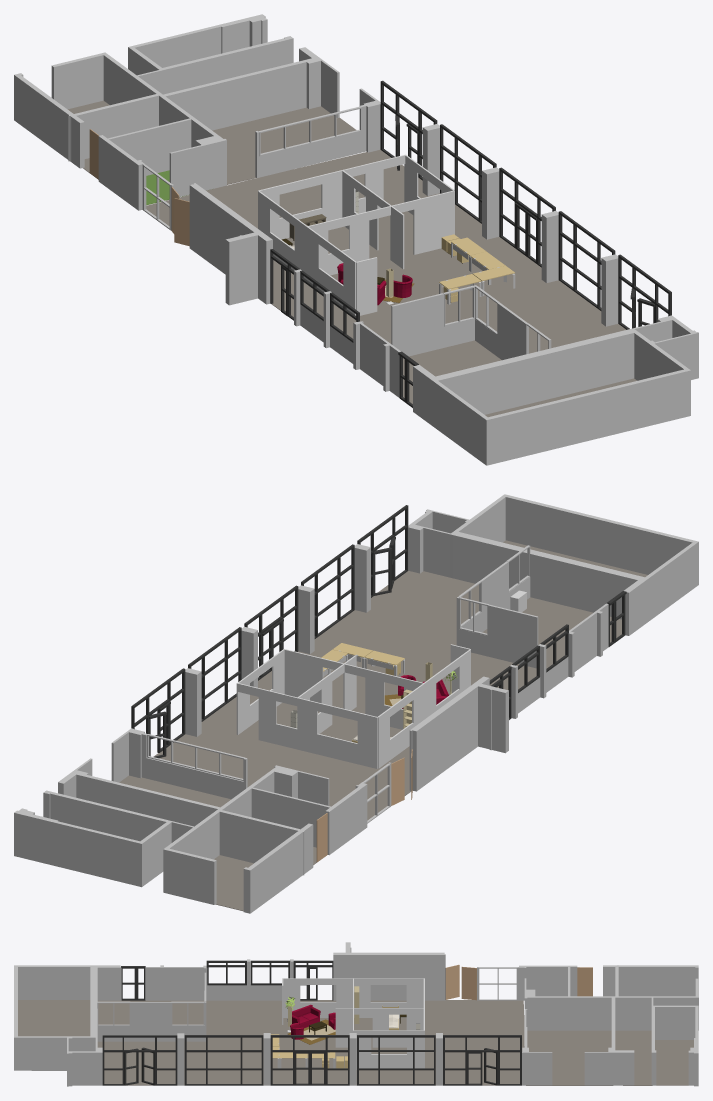
File: laas_adream.dae
3 views of the same model, one above another, from view 1: azimuth 30°, elevation 25°; view 2: azimuth 150°, elevation 25°; view 3: azimuth 270°, elevation 25° (orthographic). The views are drawn at different scales.
Visible parts, largest first — view 1: walls_002, walls_010, Floor_h020, glass_wall_h20_1, walls_004, Floor_h022, walls_011, walls_001, walls_000, Floor_h021, walls_005, walls_007 (+12 smaller); view 2: walls_002, walls_010, Floor_h020, walls_004, glass_wall_h20_1, walls_001, walls_011, walls_000, Floor_h021, walls_005, Floor_h002, Floor_h022 (+14 smaller); view 3: Floor_h020, walls_002, walls_010, glass_wall_h20_1, walls_004, walls_011, Floor_h022, Floor_h006, walls_005, Floor_h021, Floor_h003, Floor_h004 (+34 smaller).
Boxes of the visible parts, box(x1,y1,x2,y2) form: walls_002: box(14, 14, 339, 210); walls_010: box(413, 315, 698, 465); Floor_h020: box(146, 149, 626, 353); glass_wall_h20_1: box(380, 80, 671, 329); walls_004: box(189, 183, 272, 305); Floor_h022: box(212, 106, 356, 184); walls_011: box(294, 269, 400, 397); walls_001: box(255, 88, 380, 177); walls_000: box(391, 285, 476, 356); Floor_h021: box(403, 340, 501, 403); walls_005: box(475, 303, 527, 360); walls_007: box(482, 167, 499, 239); walls_002: box(14, 758, 367, 913); walls_010: box(408, 494, 698, 635); Floor_h020: box(153, 571, 536, 820); walls_004: box(409, 676, 508, 791); glass_wall_h20_1: box(131, 505, 408, 745); walls_001: box(111, 728, 247, 799); walls_011: box(510, 603, 608, 718); walls_000: box(456, 597, 538, 668); Floor_h021: box(482, 597, 621, 668); walls_005: box(461, 561, 530, 632); Floor_h002: box(214, 855, 253, 911); Floor_h022: box(119, 775, 230, 807); Floor_h020: box(97, 1000, 524, 1085); walls_002: box(517, 965, 698, 1086); walls_010: box(14, 965, 121, 1086); glass_wall_h20_1: box(102, 1035, 521, 1085); walls_004: box(333, 942, 445, 1000); walls_011: box(146, 959, 293, 1000); Floor_h022: box(526, 1030, 612, 1085); Floor_h006: box(18, 1000, 90, 1036); walls_005: box(97, 1002, 204, 1041); Floor_h021: box(97, 1000, 204, 1024); Floor_h003: box(655, 1040, 693, 1085); Floor_h004: box(615, 1030, 652, 1085).
Size of the model in its own units: 13.45 by 39.63 by 3.2.
